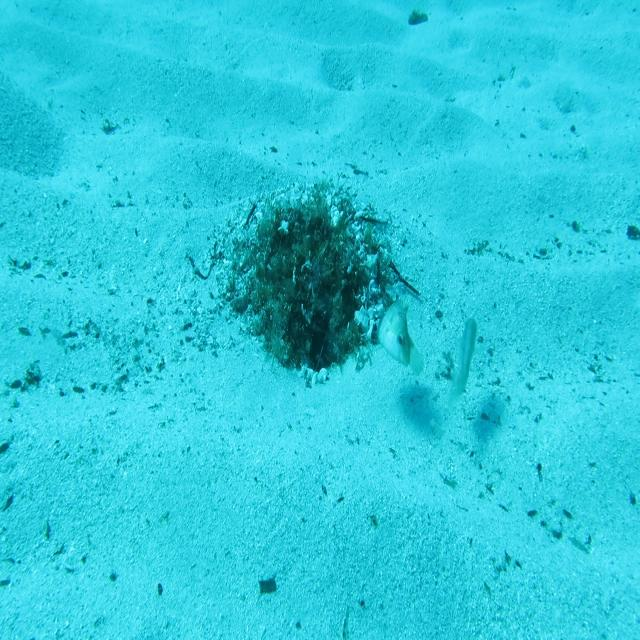BEND: (375, 292, 428, 380)
core_nest: (280, 214, 329, 274)
female: (441, 316, 479, 419)
nest: (205, 148, 428, 402)
vegetation: (621, 214, 640, 241), (257, 576, 278, 596), (407, 11, 430, 27)
